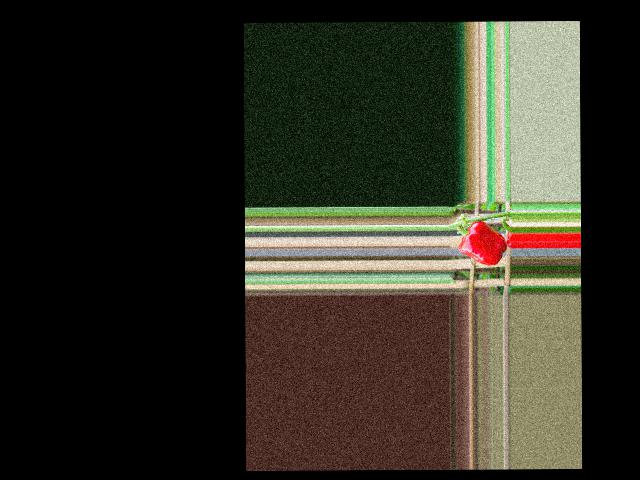bell_pepper: (458, 217, 506, 269)
